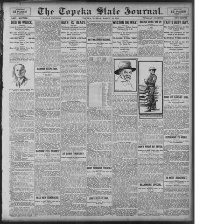news_paper: (0, 0, 193, 224)
